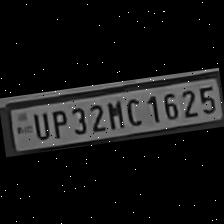1: (140, 92, 162, 124)
2: (83, 99, 106, 132), (176, 86, 198, 118)
3: (65, 102, 88, 134)
5: (194, 82, 218, 114)
6: (157, 88, 180, 120)
C: (121, 93, 143, 126)
M: (101, 96, 125, 130)
P: (45, 105, 69, 138)
U: (26, 108, 50, 140)
